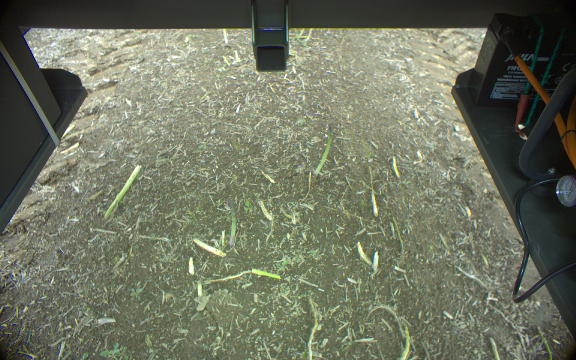aspa: (312, 122, 334, 176), (224, 195, 238, 249)
